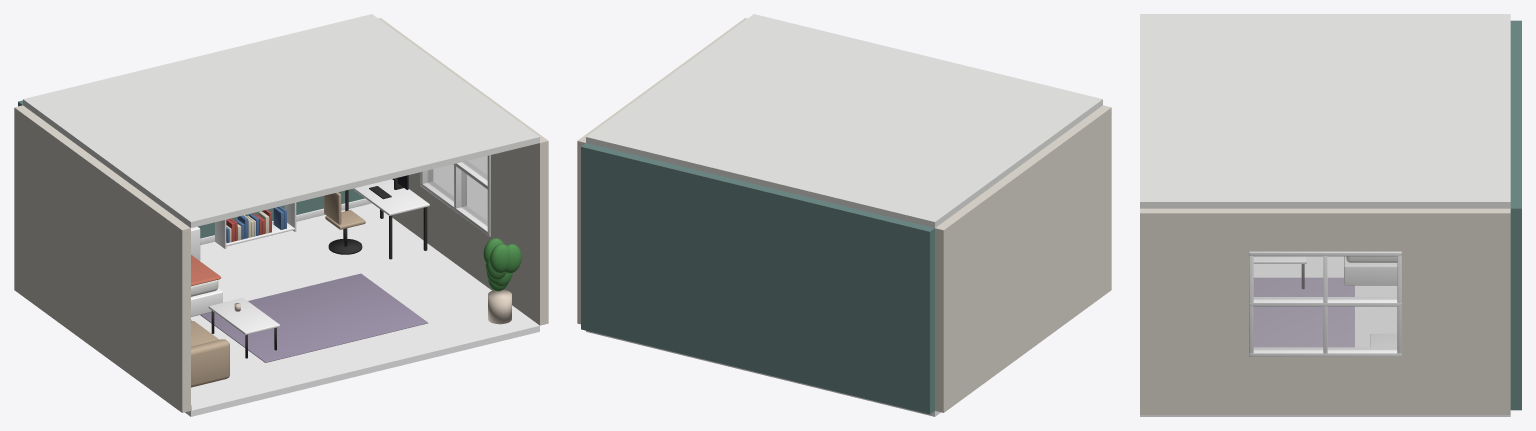
Rendered from room.glb.
3 renders of one model, left to right at view 1: azimuth 30°, elevation 25°; view 2: azimuth 150°, elevation 25°; view 3: azimuth 270°, elevation 25°, orthographic. The views are drawn at different scales.
Parts seen in each view (by area): view 1: Ceiling, Wall_Left, Floor, Rug, Wall_R_a, Wall_R_low, Window_Glass, Sofa_ArmL, CoffeeTable_Top, Desk_Top, Wall_R_b, Wall_Back (+7 smaller); view 2: Wall_Back, Ceiling, Wall_Left, Wall_R_b, Floor; view 3: Ceiling, Wall_R_b, Wall_R_a, Window_Glass, Wall_R_low, Wall_R_top, Rug, Wall_Back, Floor, WinFrame_H1, WinFrame_H0, Bed_Frame (+7 smaller).
Part boxes in pixels (bbox=[...]): Ceiling: bbox=[23, 14, 539, 227]; Wall_Left: bbox=[14, 105, 190, 412]; Floor: bbox=[185, 203, 539, 416]; Rug: bbox=[200, 273, 427, 362]; Wall_R_a: bbox=[489, 104, 548, 325]; Wall_R_low: bbox=[422, 188, 489, 288]; Window_Glass: bbox=[427, 156, 487, 225]; Sofa_ArmL: bbox=[191, 339, 229, 387]; CoffeeTable_Top: bbox=[208, 298, 279, 335]; Desk_Top: bbox=[352, 179, 429, 215]; Wall_R_b: bbox=[378, 18, 430, 238]; Wall_Back: bbox=[18, 100, 364, 238]; Wall_Back: bbox=[581, 143, 934, 414]; Ceiling: bbox=[586, 14, 1102, 227]; Wall_Left: bbox=[935, 105, 1111, 412]; Wall_R_b: bbox=[577, 104, 629, 324]; Floor: bbox=[586, 330, 940, 416]; Ceiling: bbox=[1140, 14, 1510, 208]; Wall_R_b: bbox=[1399, 208, 1510, 414]; Wall_R_a: bbox=[1140, 208, 1251, 414]; Window_Glass: bbox=[1254, 256, 1396, 349]; Wall_R_low: bbox=[1251, 357, 1399, 414]; Wall_R_top: bbox=[1251, 208, 1399, 251]; Rug: bbox=[1253, 277, 1354, 347]; Wall_Back: bbox=[1510, 20, 1521, 410]; Floor: bbox=[1140, 256, 1510, 416]; WinFrame_H1: bbox=[1249, 297, 1401, 306]; WinFrame_H0: bbox=[1249, 347, 1401, 356]; Bed_Frame: bbox=[1344, 256, 1397, 285].
Size of the model in its own units: 6.32 by 3.2 by 5.15.
